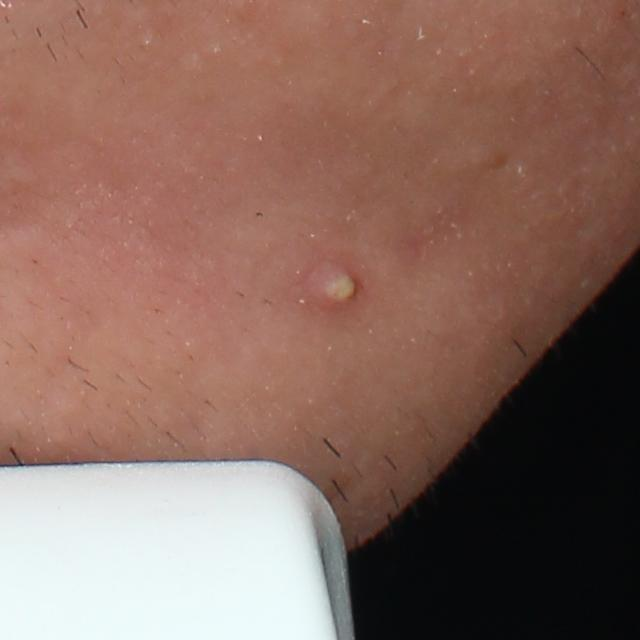pustule: (305, 255, 373, 323)
